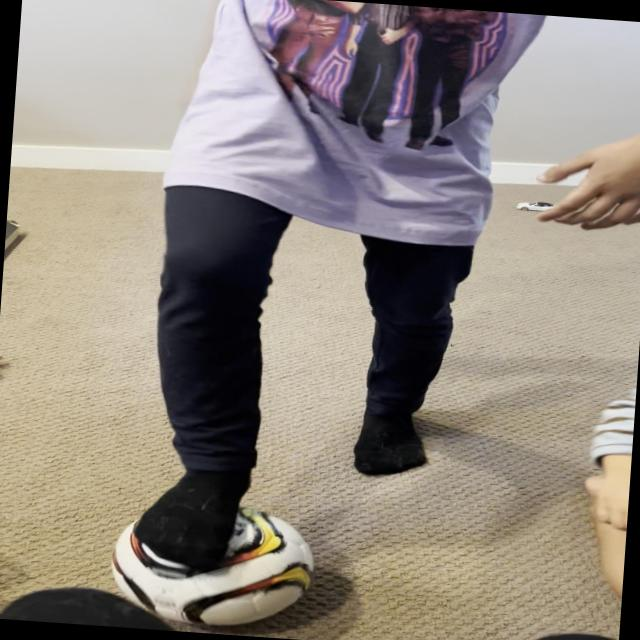Soccer Ball: (105, 494, 318, 632)
